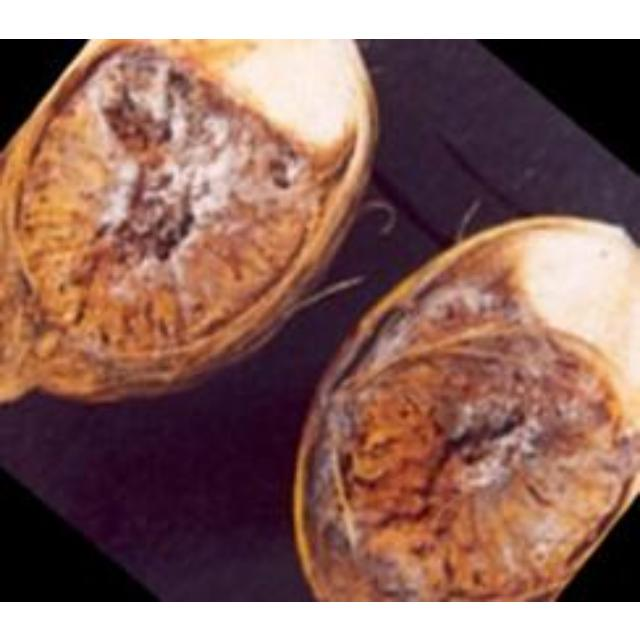damaged: (0, 38, 380, 408), (289, 214, 637, 599)
